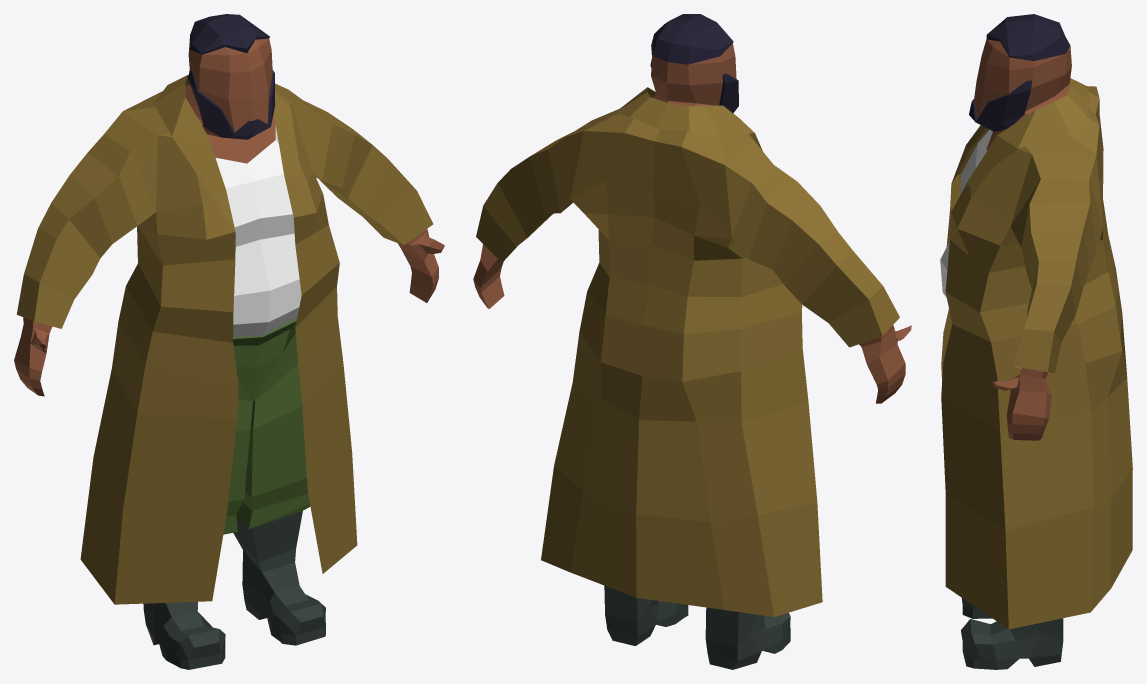
File: male_03_b.fbx
The picture shows the model from 3 angles, left to right: view 1: azimuth 30°, elevation 25°; view 2: azimuth 150°, elevation 25°; view 3: azimuth 270°, elevation 25°; orthographic projection.
Parts seen in each view (by area): view 1: male_03_b; view 2: male_03_b; view 3: male_03_b.
Part boxes in pixels (x1,y1,x2,y2): male_03_b: (14, 14, 444, 669); male_03_b: (473, 14, 911, 669); male_03_b: (940, 14, 1132, 669).
Bounding box in the file's own units: 131 × 188 × 53.44.
